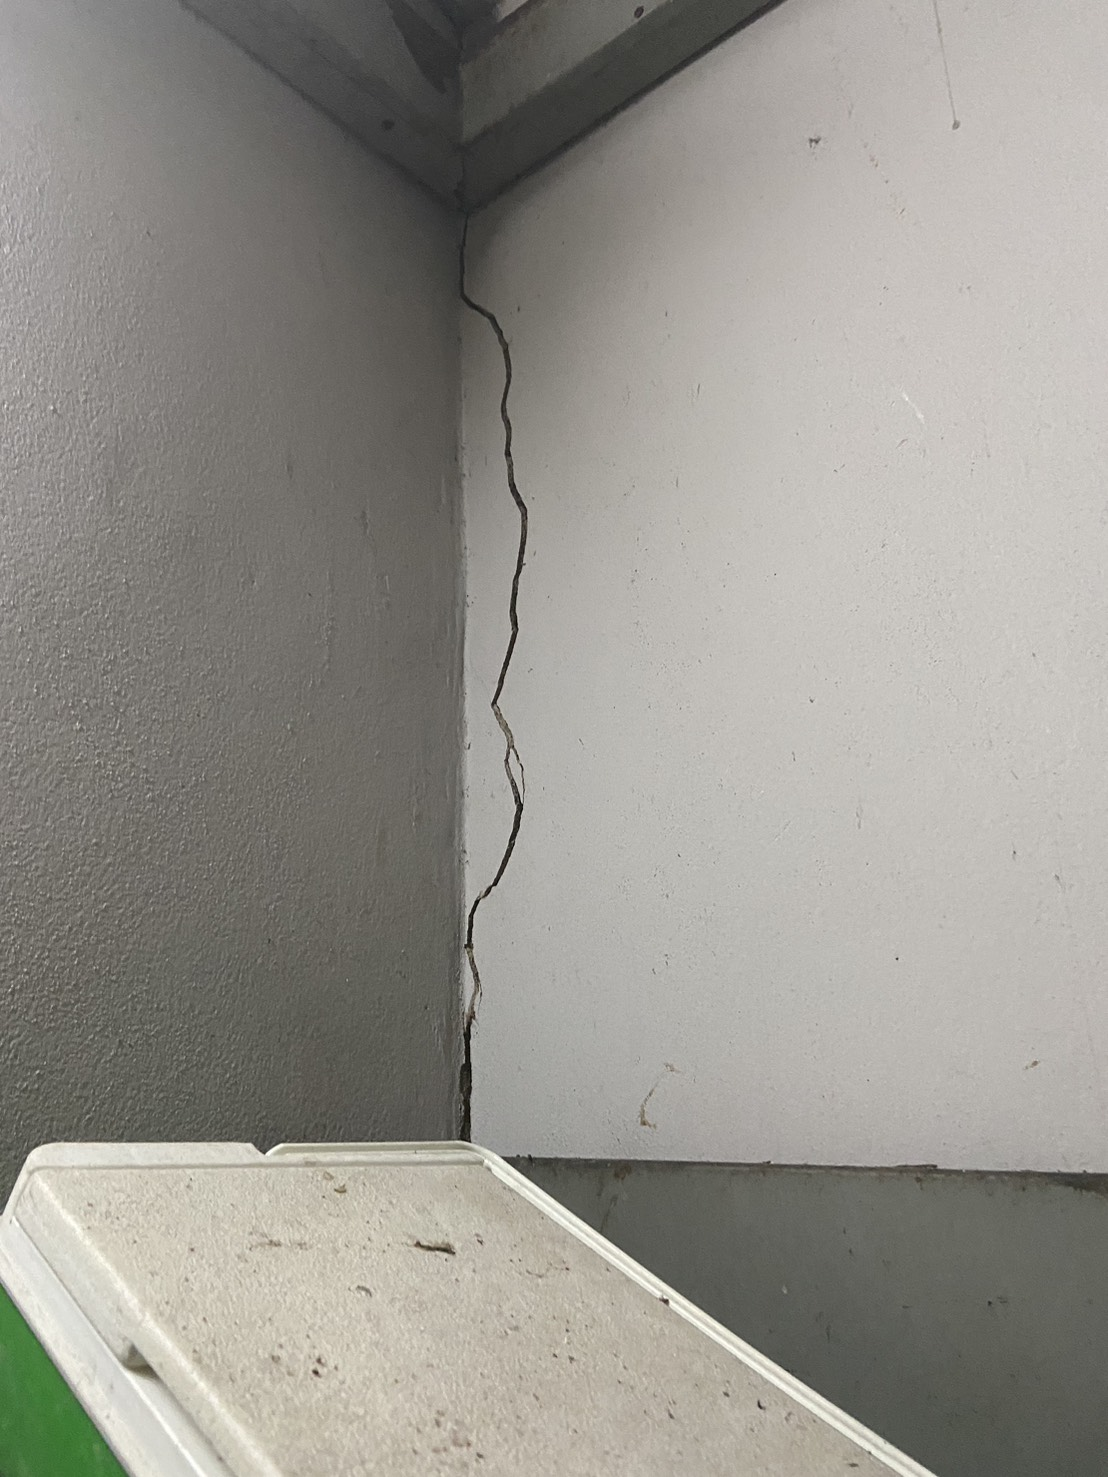Medium: (436, 235, 604, 1125)
